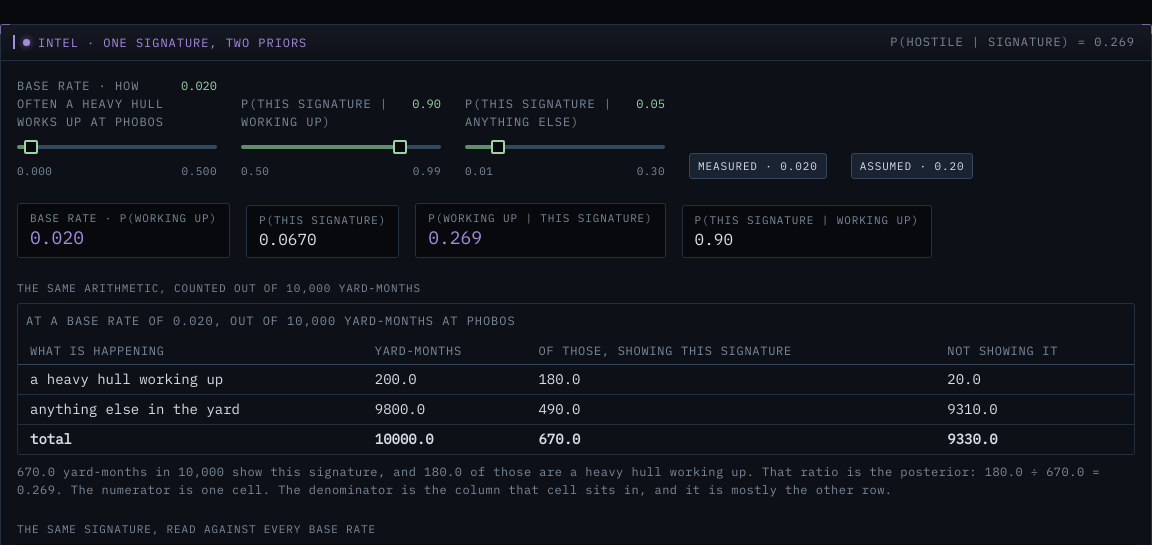
Test case: <PosteriorExplorer> › moves to the rate PROVIDENT assumed, and the same signature reads four times as loud
Click the button "ASSUMED · 0.20": [912, 166] box x1=851 y1=153 x2=973 y2=179
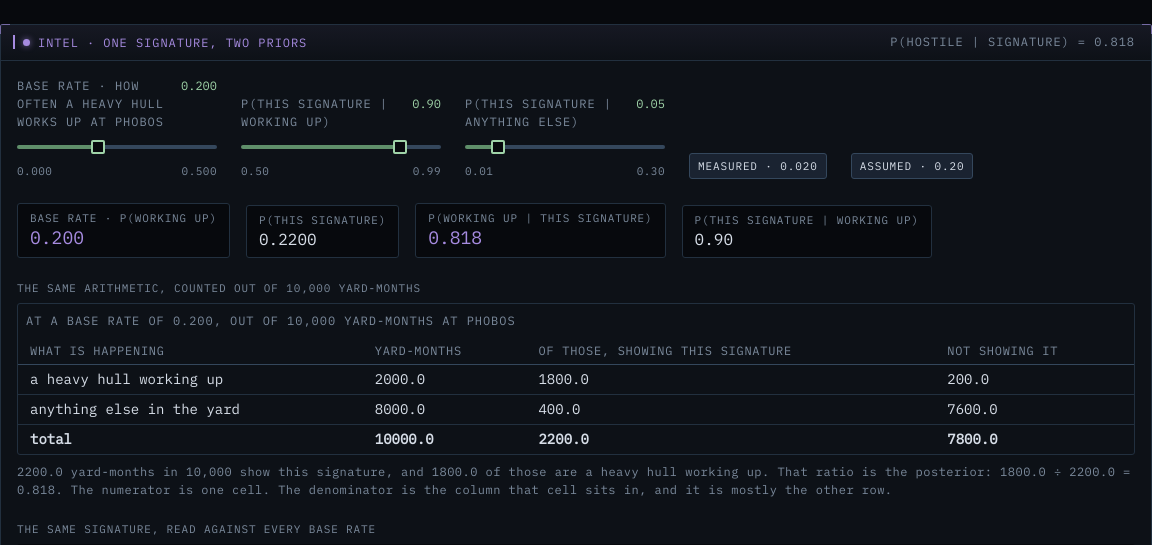
Check: the text "0.818" is shown, box x1=428 y1=226 x2=482 y2=249
